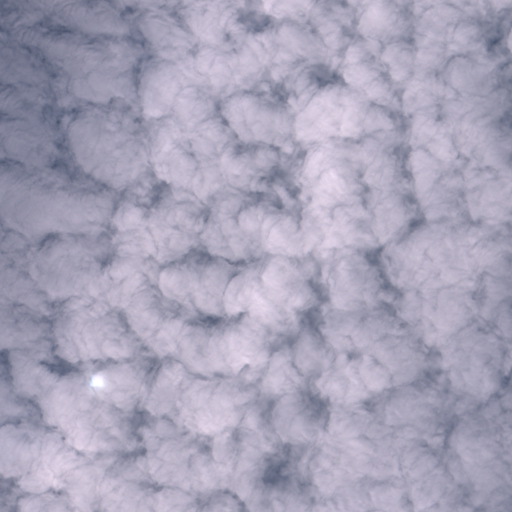Iceberg: (91, 375, 102, 386)
